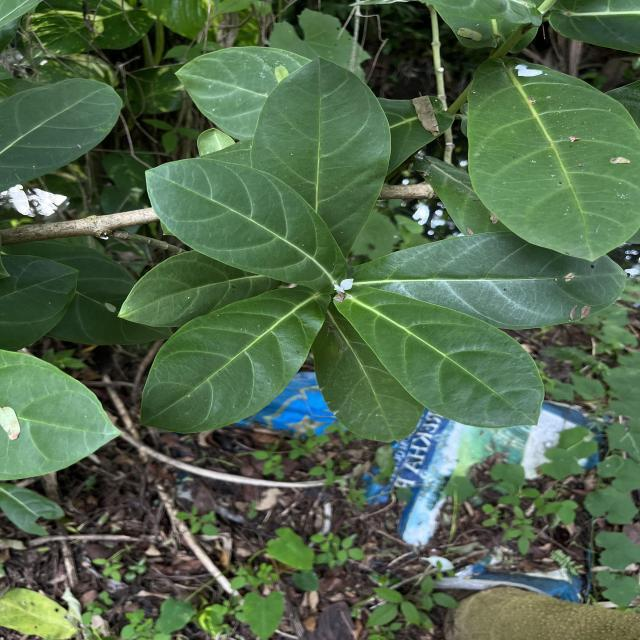Calotropis gigantea: (465, 56, 639, 264), (332, 280, 546, 430), (248, 54, 394, 256), (137, 284, 332, 434), (349, 228, 627, 332), (142, 156, 348, 292), (0, 76, 126, 196)
